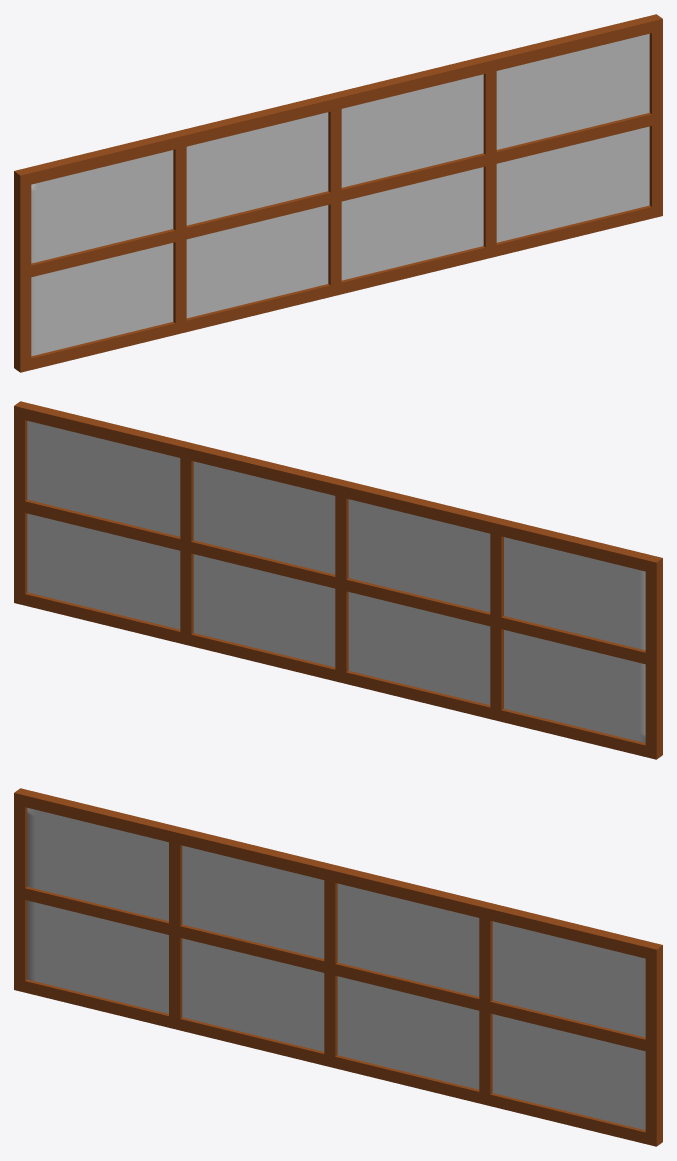
File: Light.fbx
The picture shows the model from 3 angles, top to bottom: view 1: azimuth 30°, elevation 25°; view 2: azimuth 150°, elevation 25°; view 3: azimuth 330°, elevation 25°; orthographic projection.
Parts seen in each view (by area): view 1: Cube.002; view 2: Cube.002; view 3: Cube.002.
Part boxes in pixels (bbox=[...]): Cube.002: bbox=[14, 14, 662, 372]; Cube.002: bbox=[14, 401, 662, 759]; Cube.002: bbox=[14, 788, 662, 1146].
Bounding box in the file's own units: 1134 × 332 × 19.55.
